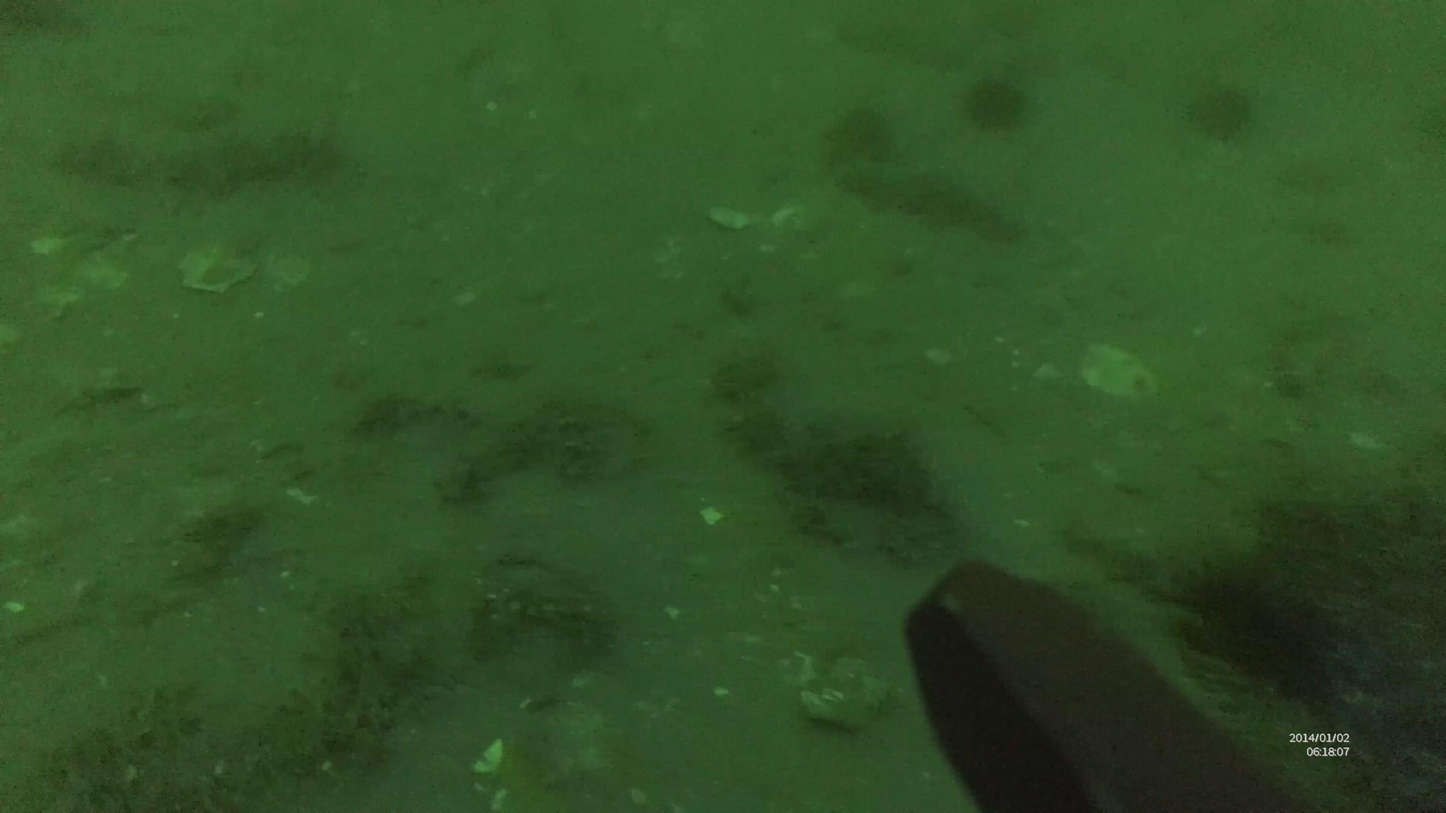starfish: (955, 79, 1029, 134), (1193, 84, 1245, 140)
